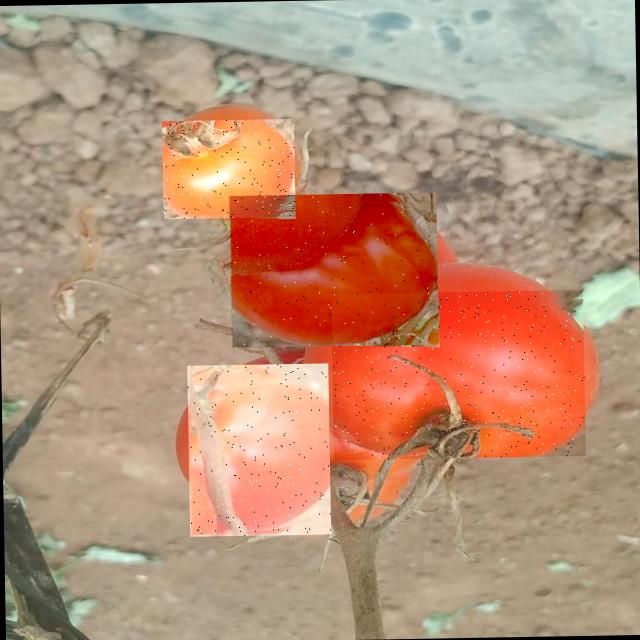Ripe Tomato: (330, 290, 586, 460), (228, 192, 438, 348), (187, 363, 331, 536), (162, 119, 296, 218)
